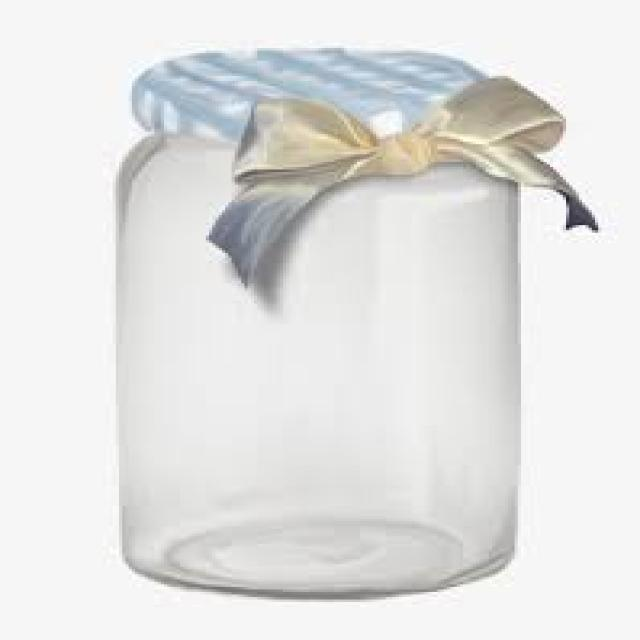glass: (113, 137, 518, 597)
metal: (132, 46, 482, 132)
